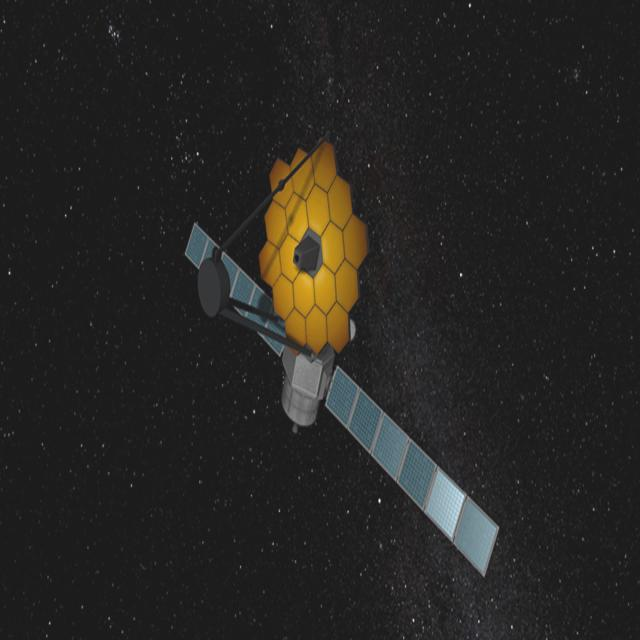medium_debris: (176, 110, 513, 587)
